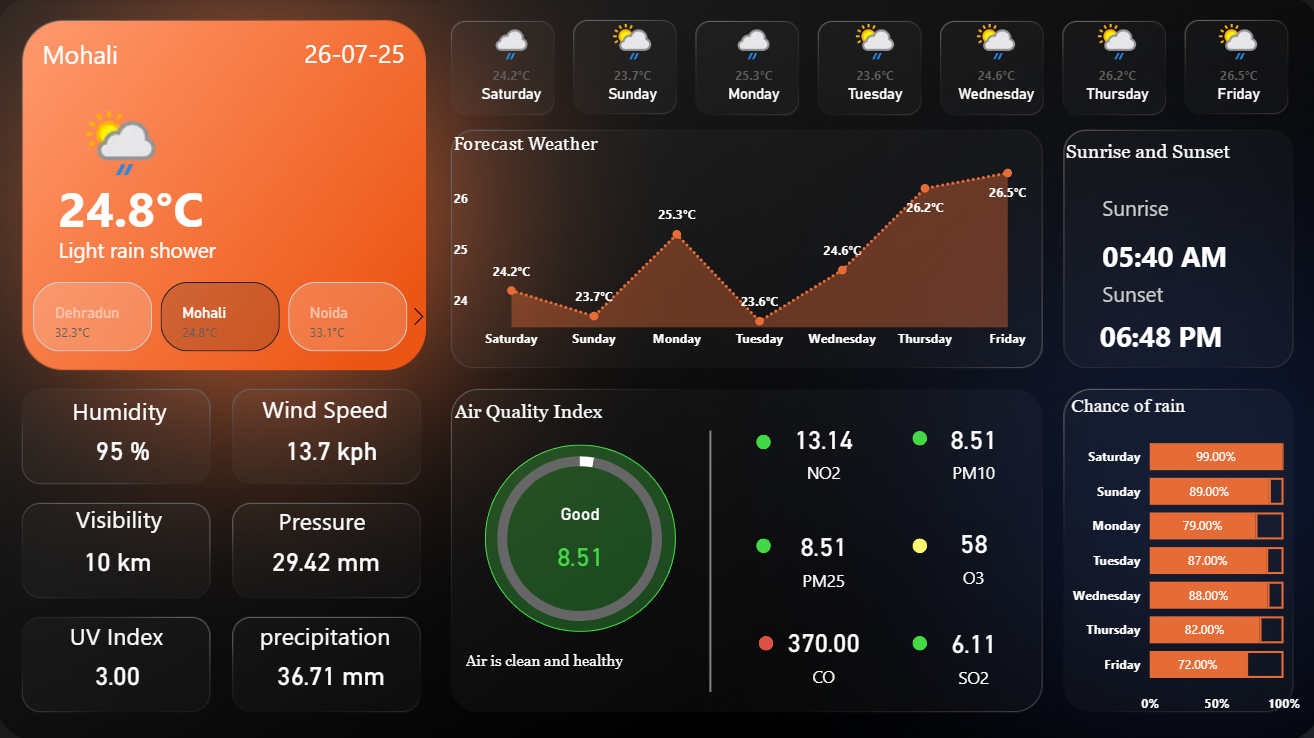

What the dashboard file says about the page in this screenshot:
{"tool":"powerbi","page":{"name":"Page 1","canvas":[1280,720],"ordinal":0},"visuals":[{"type":"advancedSlicerVisual","fields":{"Values":["Locations.location.name"]},"box":[11,270.5,412.1,77.1],"z":0},{"type":"shape","box":[471.7,431.9,184.6,181],"z":1000},{"type":"shape","box":[59.8,162,206,81.8],"z":2000},{"type":"shape","box":[59.8,215.5,350.8,55.1],"z":3000},{"type":"shape","box":[44,28.3,176.2,55.1],"z":4000},{"type":"shape","box":[286.3,26.7,108.5,55.1],"z":5000},{"type":"cardVisual","fields":{"Data":["Min(Current.current.condition.icon)"]},"box":[59.8,81.8,116.4,95.9],"z":6000},{"type":"shape","box":[77.1,475,102.2,55.1],"z":7000},{"type":"shape","box":[73.9,371.2,102.2,55.1],"z":8000},{"type":"shape","box":[254.8,588.3,136.8,55.1],"z":9000},{"type":"shape","box":[272.1,478.2,89.7,55.1],"z":10000},{"type":"shape","box":[256.4,369.6,136.8,56.6],"z":11000},{"type":"shape","box":[70.8,588.3,102.2,55.1],"z":12000},{"type":"card","fields":{"Values":["_Measures.Humidity"]},"box":[70.8,410.5,102.2,55.1],"z":13000},{"type":"card","fields":{"Values":["Sum(Current.current.uv)"]},"box":[66.1,627.6,102.2,55.1],"z":14000},{"type":"card","fields":{"Values":["_Measures.Visibility"]},"box":[66.1,517.5,102.2,55.1],"z":15000},{"type":"card","fields":{"Values":["_Measures.precipitation"]},"box":[263,627.3,120.6,55.5],"z":16000},{"type":"card","fields":{"Values":["_Measures.pressure"]},"box":[259.5,517.5,118,55.1],"z":17000},{"type":"card","fields":{"Values":["_Measures.Wind_speed"]},"box":[272.1,410.5,102.2,55.1],"z":18000},{"type":"advancedSlicerVisual","fields":{"Values":["Forcast day.Day_name"]},"box":[437.7,13.7,826.1,107],"z":19000},{"type":"lineChart","title":"Forecast Weather","fields":{"Y":["Sum(Forcast day.forecast.forecastday.day.avgtemp_c)"],"Category":["Forcast day.Day_name"]},"box":[437.1,130,576.8,217.7],"z":20000},{"type":"shape","box":[1033,121.2,195.6,56.6],"z":21000},{"type":"shape","box":[1067.5,227.5,125.1,43.9],"z":22000},{"type":"shape","box":[1065.9,308.7,125.1,34.1],"z":23000},{"type":"shape","box":[1067.5,175.5,167.4,55.2],"z":24000},{"type":"shape","box":[1067.5,271.3,125.1,29.2],"z":25000},{"type":"hundredPercentStackedBarChart","title":"Chance of rain","fields":{"Y":["Sum(Forcast day.forecast.forecastday.day.daily_chance_of_rain)","_Measures.Left_value_rain"],"Category":["Forcast day.Day_name"]},"box":[1033,383.1,231.2,316.8],"z":26000},{"type":"shape","box":[442.8,371.6,196.6,55.5],"z":27000},{"type":"card","fields":{"Values":["Sum(Current.current.air_quality.pm10)"]},"box":[892.4,400.9,101.8,74.4],"z":28000},{"type":"card","fields":{"Values":["Sum(Current.current.air_quality.pm2_5)"]},"box":[748.5,506,101.8,71.1],"z":29000},{"type":"card","fields":{"Values":["Sum(Current.current.air_quality.no2)"]},"box":[748.5,400.9,101.8,74.4],"z":30000},{"type":"card","fields":{"Values":["Sum(Current.current.air_quality.so2)"]},"box":[892.4,599.7,101.8,71.1],"z":31000},{"type":"card","fields":{"Values":["Sum(Current.current.air_quality.o3)"]},"box":[892.4,506,101.8,66.3],"z":32000},{"type":"card","fields":{"Values":["Sum(Current.current.air_quality.co)"]},"box":[748.5,601.4,101.8,66.3],"z":33000},{"type":"shape","box":[733.9,421.9,14.5,14.5],"z":34000},{"type":"shape","box":[884.3,615.9,14.5,14.5],"z":35000},{"type":"shape","box":[735.5,615.9,14.5,14.5],"z":36000},{"type":"shape","box":[884.3,522.2,14.5,14.5],"z":37000},{"type":"shape","box":[733.9,522.2,14.5,14.5],"z":38000},{"type":"shape","box":[884.3,418.7,14.5,14.5],"z":39000},{"type":"shape","box":[628.6,418.6,121.9,252.1],"z":40000},{"type":"card","fields":{"Values":["Sum(Current.current.air_quality.pm10)"]},"box":[511.5,488.6,105,84.5],"z":41000},{"type":"donutChart","fields":{"Y":["Sum(Current.current.air_quality.pm10)","_Measures.Left_value_PM10"]},"box":[456,418.6,214.7,208.7],"z":42000},{"type":"shape","box":[453.6,612.9,223.2,55.5],"z":42001}]}

Visuals, with their boxes in screenshot pixels (x1, y1, x2, y2), scaled from the page's 1280x720 canvas onto the 1314x738 screenshot:
advancedSlicerVisual - Locations.location.name: (11,277,434,356)
shape: (484,443,674,628)
shape: (61,166,273,250)
shape: (61,221,422,277)
shape: (45,29,226,85)
shape: (294,27,405,84)
cardVisual - Min(Current.current.condition.icon): (61,84,181,182)
shape: (79,487,184,543)
shape: (76,380,181,437)
shape: (262,603,402,659)
shape: (279,490,371,547)
shape: (263,379,404,437)
shape: (73,603,178,659)
card - _Measures.Humidity: (73,421,178,477)
card - Sum(Current.current.uv): (68,643,173,700)
card - _Measures.Visibility: (68,530,173,587)
card - _Measures.precipitation: (270,643,394,700)
card - _Measures.pressure: (266,530,388,587)
card - _Measures.Wind_speed: (279,421,384,477)
advancedSlicerVisual - Forcast day.Day_name: (449,14,1297,124)
"Forecast Weather" lineChart: (449,133,1041,356)
shape: (1060,124,1261,182)
shape: (1096,233,1224,278)
shape: (1094,316,1223,351)
shape: (1096,180,1268,236)
shape: (1096,278,1224,308)
"Chance of rain" hundredPercentStackedBarChart: (1060,393,1298,717)
shape: (455,381,656,438)
card - Sum(Current.current.air_quality.pm10): (916,411,1021,487)
card - Sum(Current.current.air_quality.pm2_5): (768,519,873,592)
card - Sum(Current.current.air_quality.no2): (768,411,873,487)
card - Sum(Current.current.air_quality.so2): (916,615,1021,688)
card - Sum(Current.current.air_quality.o3): (916,519,1021,587)
card - Sum(Current.current.air_quality.co): (768,616,873,684)
shape: (753,432,768,447)
shape: (908,631,923,646)
shape: (755,631,770,646)
shape: (908,535,923,550)
shape: (753,535,768,550)
shape: (908,429,923,444)
shape: (645,429,770,687)
card - Sum(Current.current.air_quality.pm10): (525,501,633,587)
donutChart - Sum(Current.current.air_quality.pm10) x _Measures.Left_value_PM10: (468,429,689,643)
shape: (466,628,695,685)
